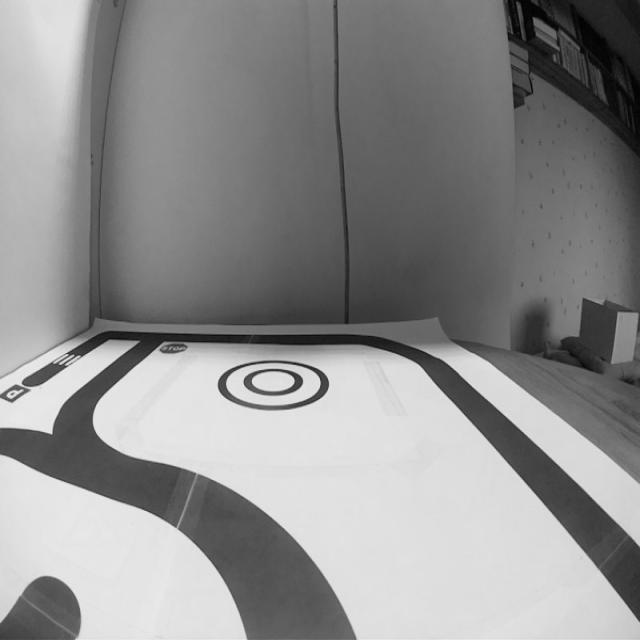cockade: (214, 353, 328, 413)
laneLeftTurn: (150, 452, 371, 640)
